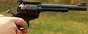pistol: (1, 1, 88, 33)
